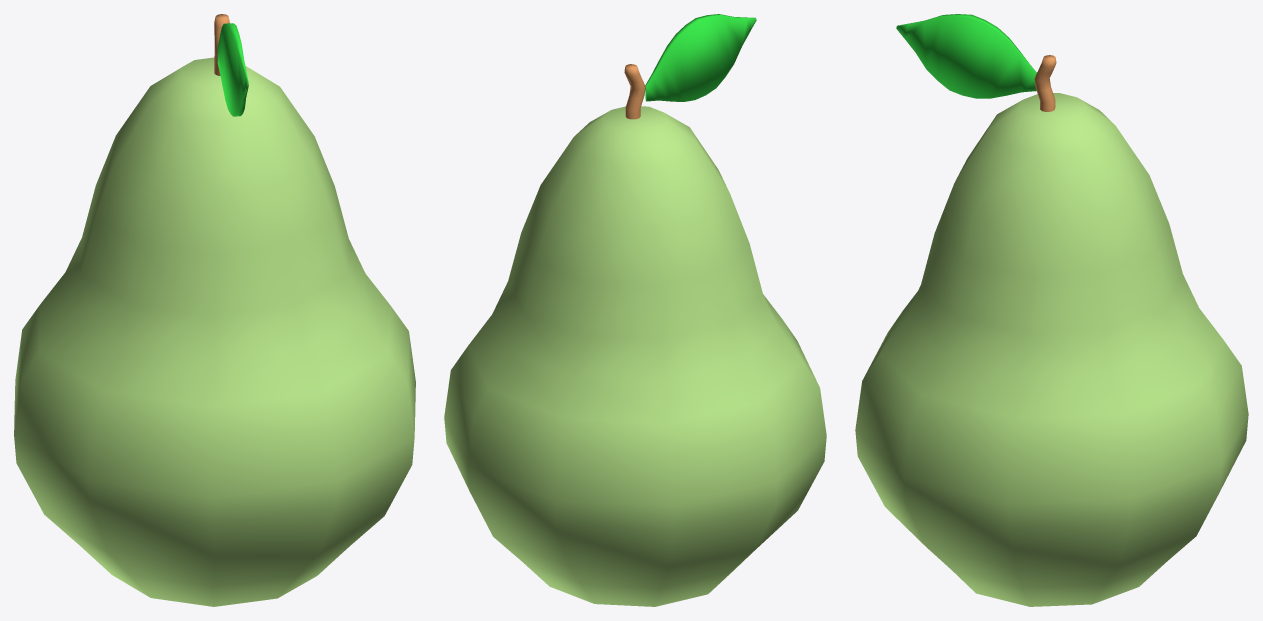
Rendered from Pear.fbx.
3 renders of one model, left to right at view 1: azimuth 30°, elevation 25°; view 2: azimuth 150°, elevation 25°; view 3: azimuth 270°, elevation 25°, orthographic. The views are drawn at different scales.
Visible parts, largest first — view 1: Pear_Leaf_001; view 2: Pear_Leaf_001; view 3: Pear_Leaf_001.
Part boxes in pixels (<box>): Pear_Leaf_001: <box>14,14,415,606</box>; Pear_Leaf_001: <box>444,14,826,606</box>; Pear_Leaf_001: <box>855,14,1248,606</box>.
Size of the model in its own units: 91.47 by 141 by 93.29.
